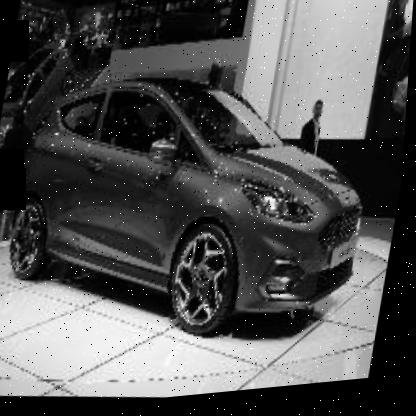not_emergency: (0, 53, 399, 367)
